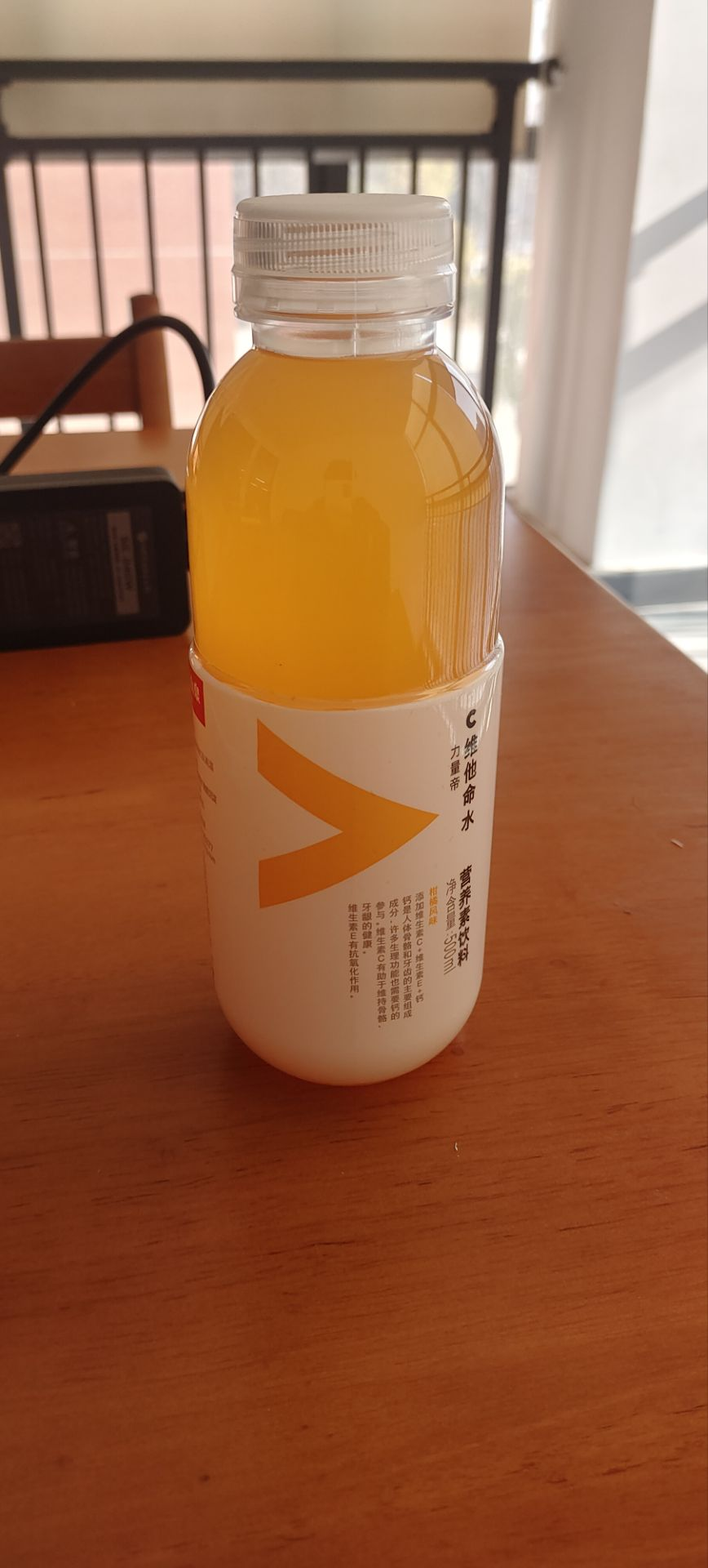redbull: (192, 200, 500, 1069)
